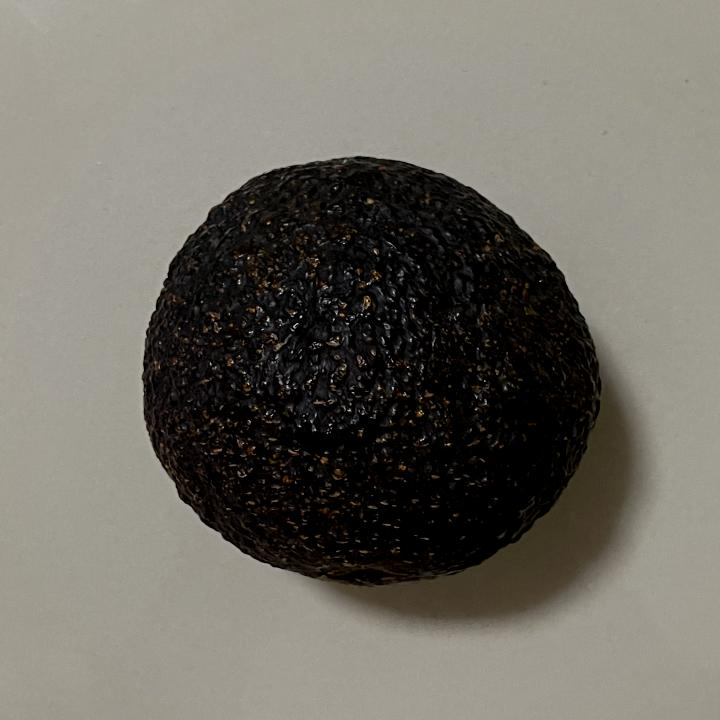Level3: (127, 144, 613, 596)
